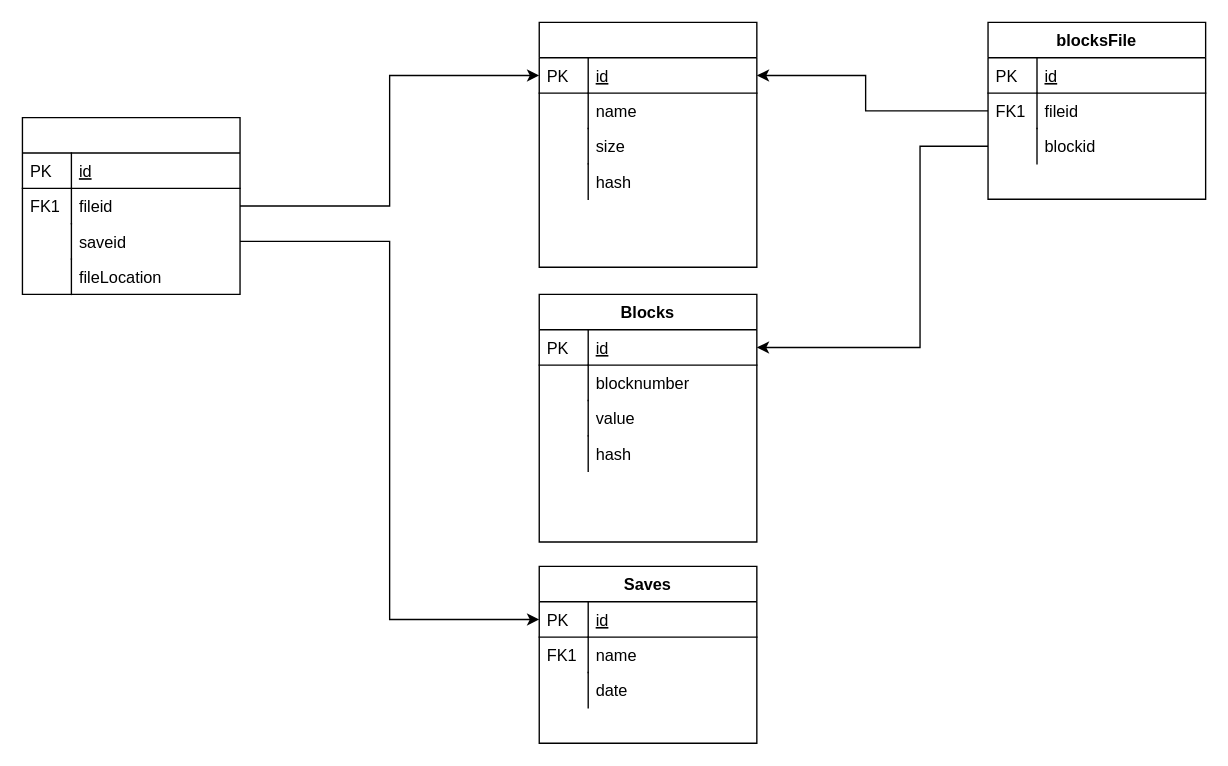
Image size: 1228x766. Some labels were removed from this diagram. The shapes that lost their labels are listed below. From the top down, each one's box as (x1, y1, x2, y2) in pixels, then its label:
(538, 21, 757, 267): Files
(21, 116, 240, 294): savedFiles
